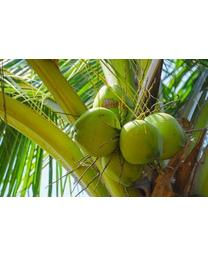coconut: (140, 111, 187, 160), (73, 108, 119, 156), (120, 118, 162, 164)
